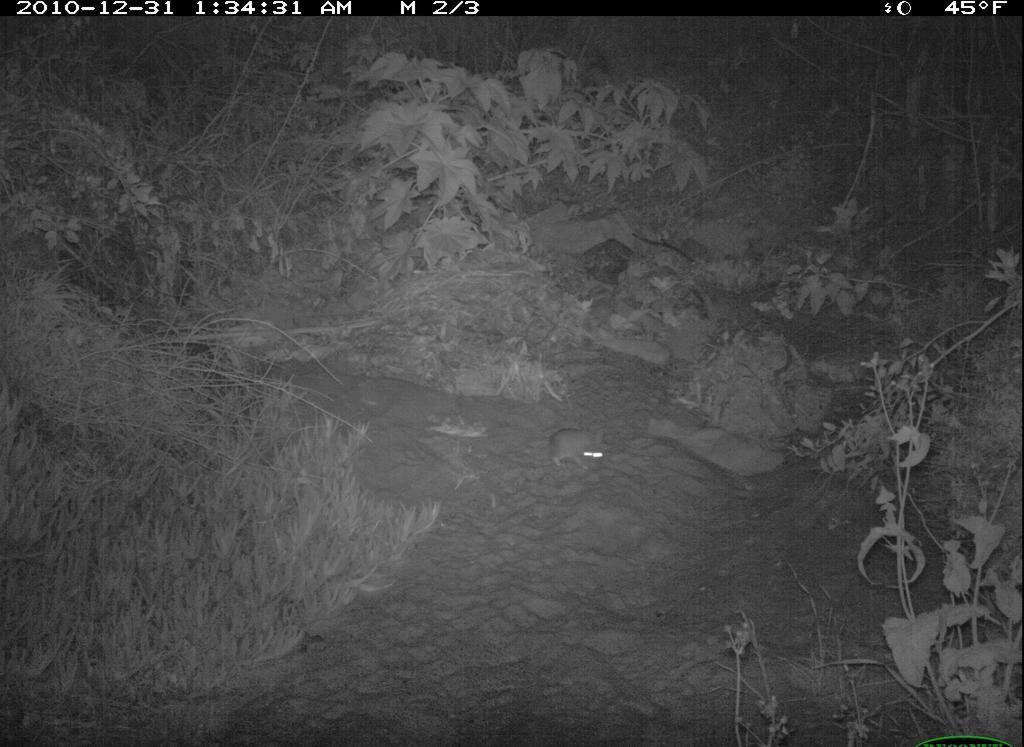rabbit: (539, 418, 620, 484)
